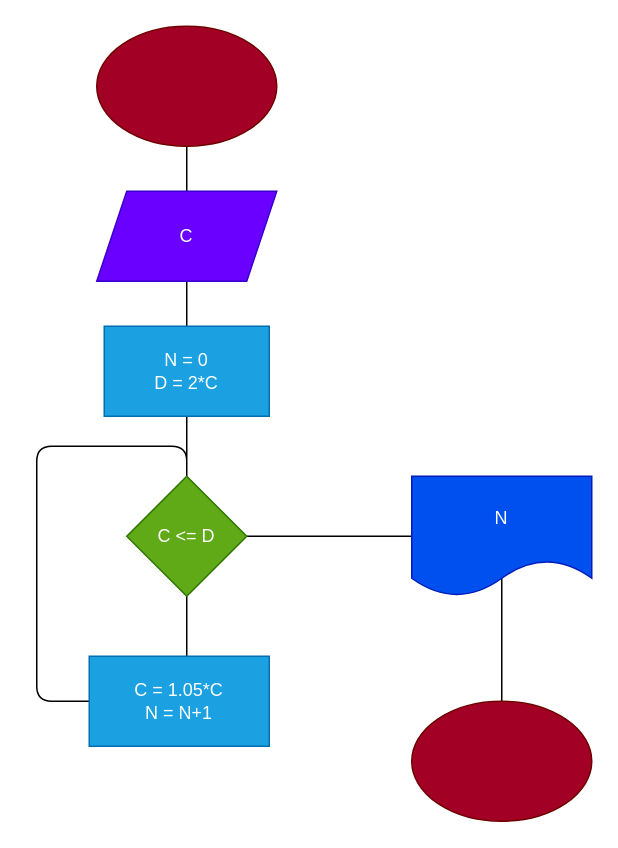
Some shapes in this 618 by 848 pixel diagram are drawn without their labels. The shapes that lost their labels are listed below. From the top down, each one's centre as x and y in pixels, then its label:
the point at 186,85: Inicio
the point at 501,760: Fin
